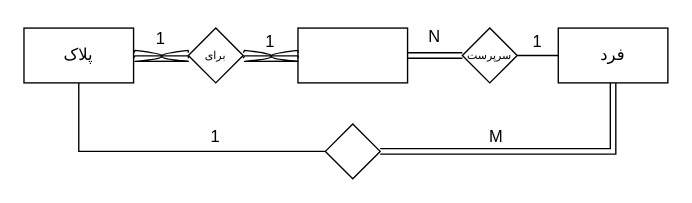
This 692x203 diagram has some shape labels left out. The centre of each missing label's shape, as x and y in pixels:
ماشین: (x=352, y=55)
معتلق: (x=352, y=151)
